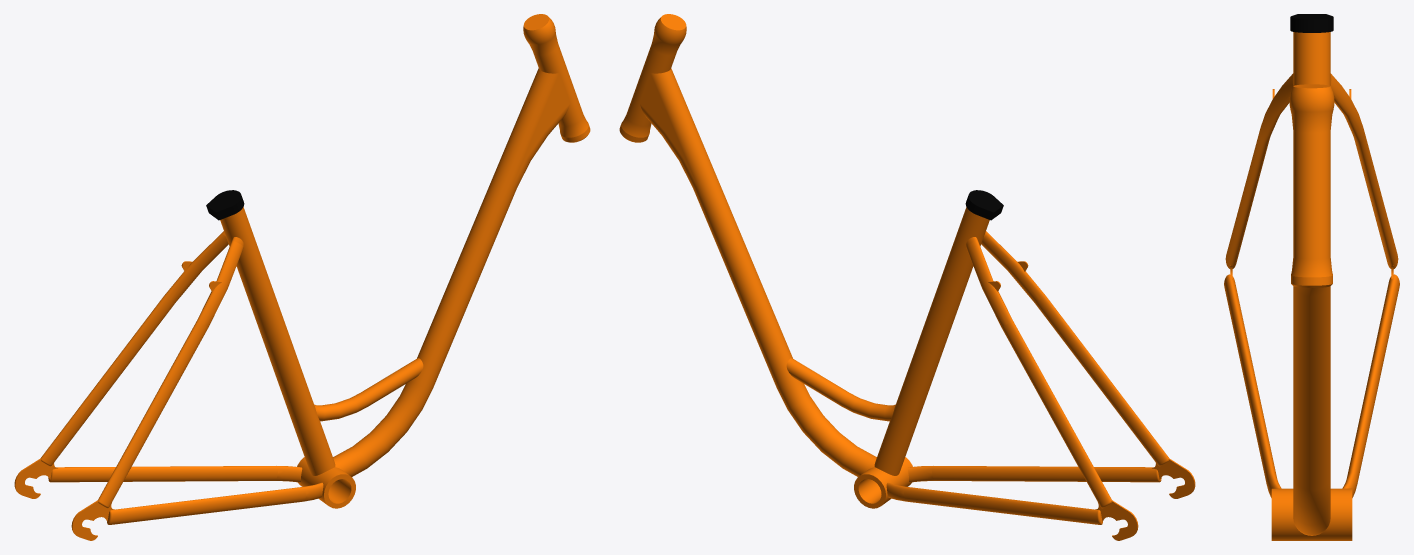
Rendered from frameOrange.glb.
The picture shows the model from 3 angles, left to right: view 1: azimuth 30°, elevation 25°; view 2: azimuth 150°, elevation 25°; view 3: azimuth 270°, elevation 25°; orthographic projection. The views are drawn at different scales.
Parts seen in each view (by area): view 1: Bike01\Rahmen; view 2: Bike01\Rahmen; view 3: Bike01\Rahmen.
Boxes of the visible parts, box(x1,y1,x2,y2) form: Bike01\Rahmen: box(14, 14, 590, 540); Bike01\Rahmen: box(619, 14, 1195, 540); Bike01\Rahmen: box(1224, 14, 1399, 540).
Size of the model in its own units: 0.9466 by 0.7106 by 0.1879.
